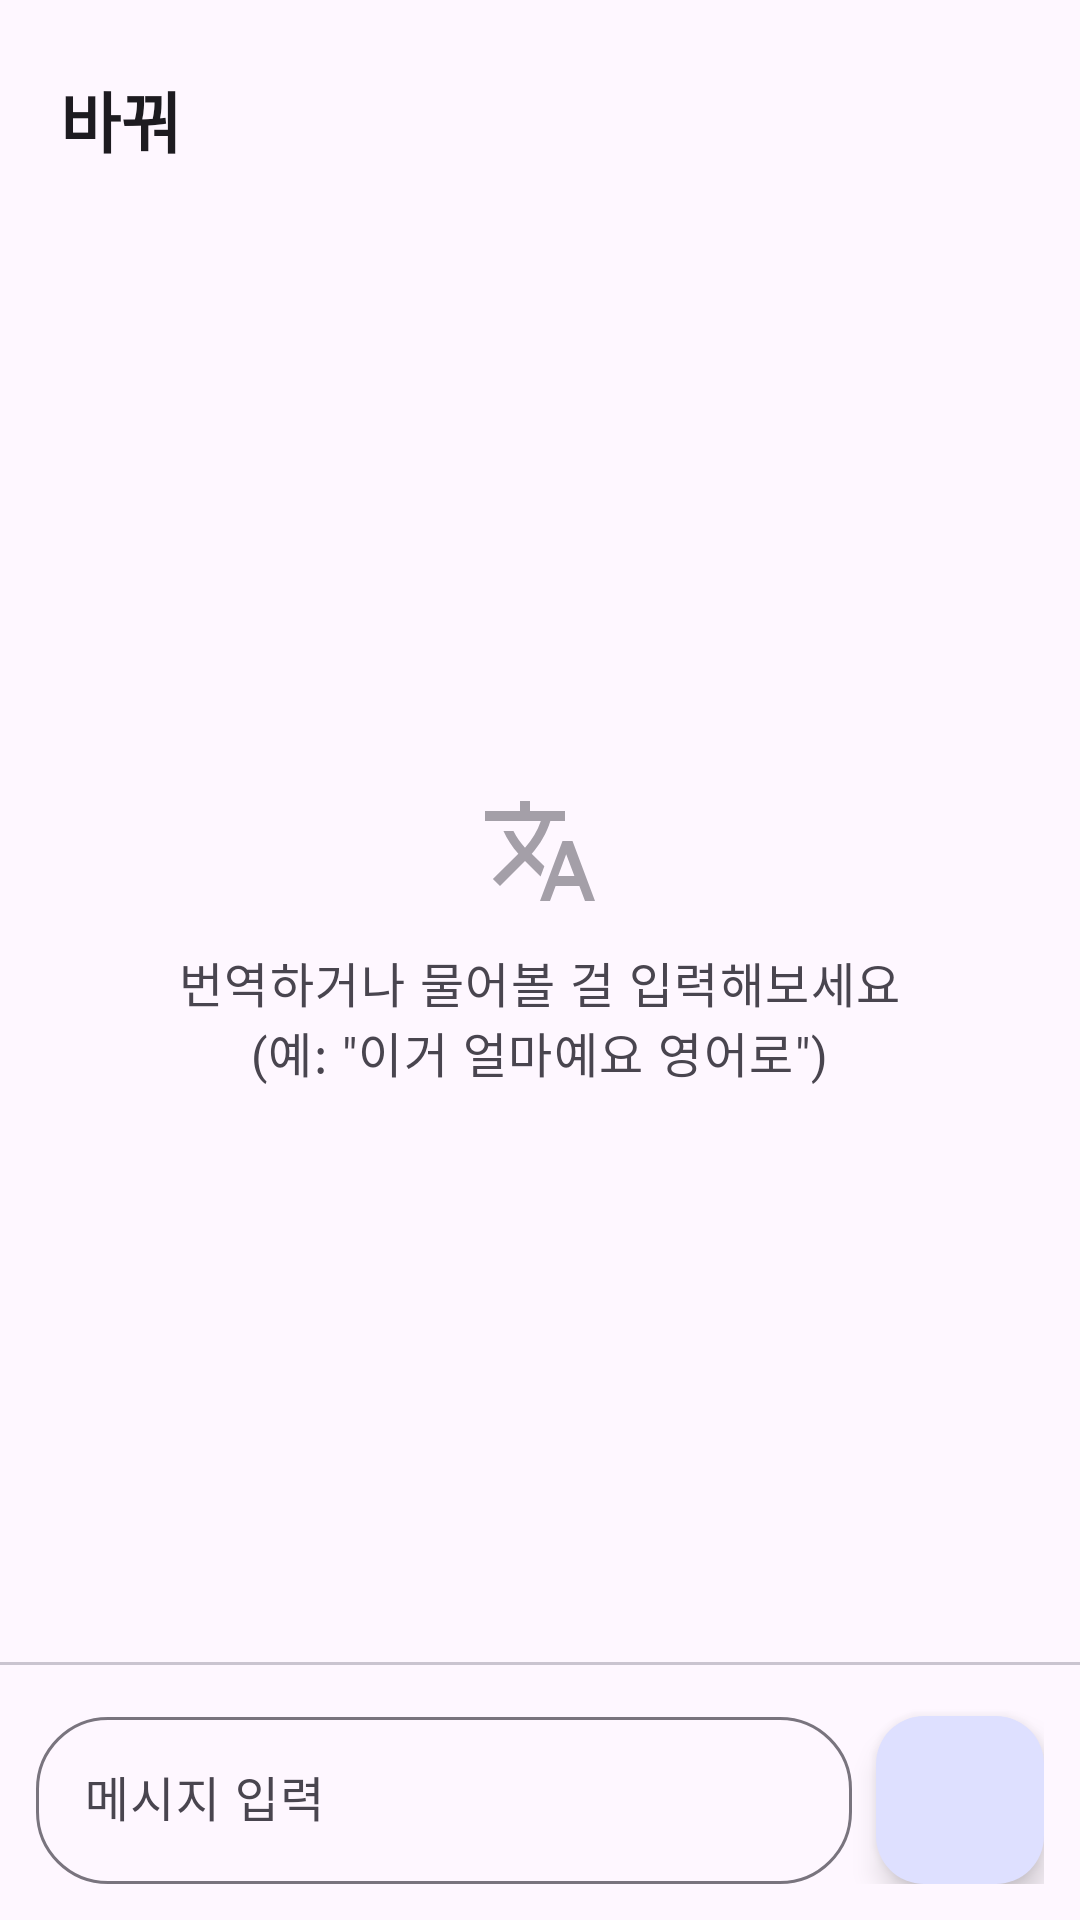

Locate icon controls on the screen. Image size 1080 x 1920, boxes as box(x1, y1, x2, y2).
translate: box(485, 801, 595, 901)
